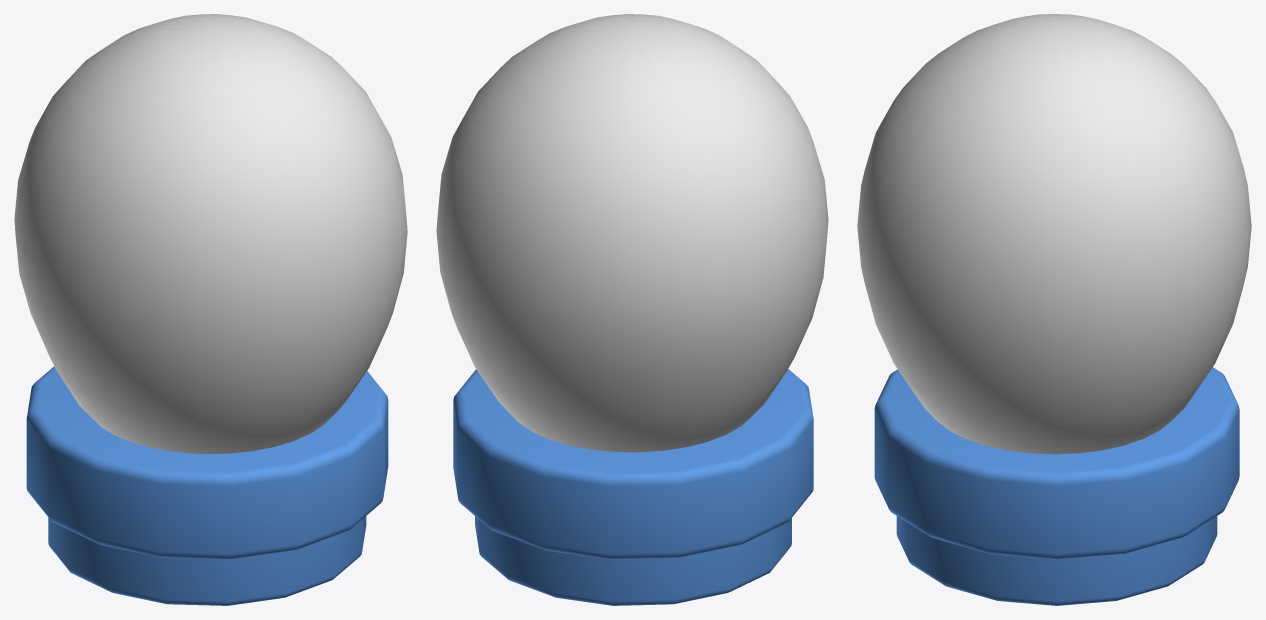
Rendered from jungu.fbx.
3 renders of one model, left to right at view 1: azimuth 30°, elevation 25°; view 2: azimuth 150°, elevation 25°; view 3: azimuth 270°, elevation 25°, orthographic.
Visible parts, largest first — view 1: Sphere_1.002, Cylinder_3.002, Cylinder_2.002; view 2: Sphere_1.002, Cylinder_3.002, Cylinder_2.002; view 3: Sphere_1.002, Cylinder_3.002, Cylinder_2.002.
Part boxes in pixels (left/top/right/bottom): Sphere_1.002: left=14, top=14, right=407, bottom=453; Cylinder_3.002: left=26, top=366, right=388, bottom=559; Cylinder_2.002: left=48, top=516, right=366, bottom=605; Sphere_1.002: left=436, top=14, right=828, bottom=452; Cylinder_3.002: left=453, top=369, right=813, bottom=559; Cylinder_2.002: left=475, top=516, right=791, bottom=605; Sphere_1.002: left=857, top=14, right=1251, bottom=454; Cylinder_3.002: left=874, top=367, right=1239, bottom=559; Cylinder_2.002: left=896, top=516, right=1217, bottom=605.
Bounding box in the file's own units: 190 × 292 × 190.
